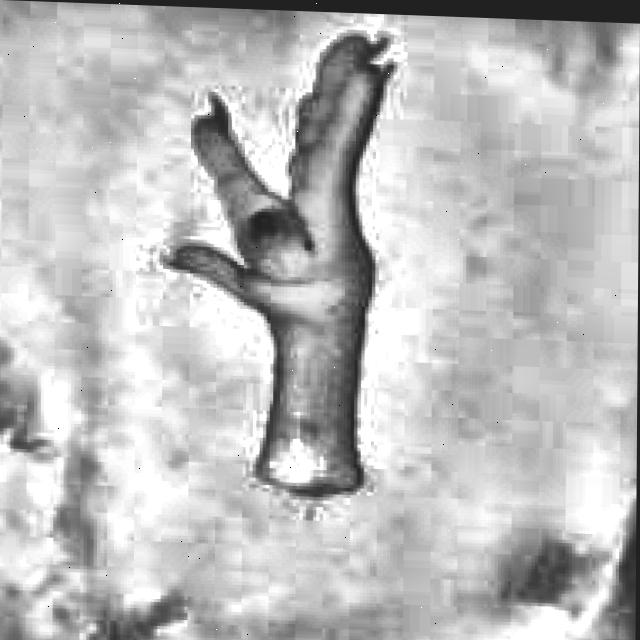Bumble foot: (235, 187, 308, 269)
